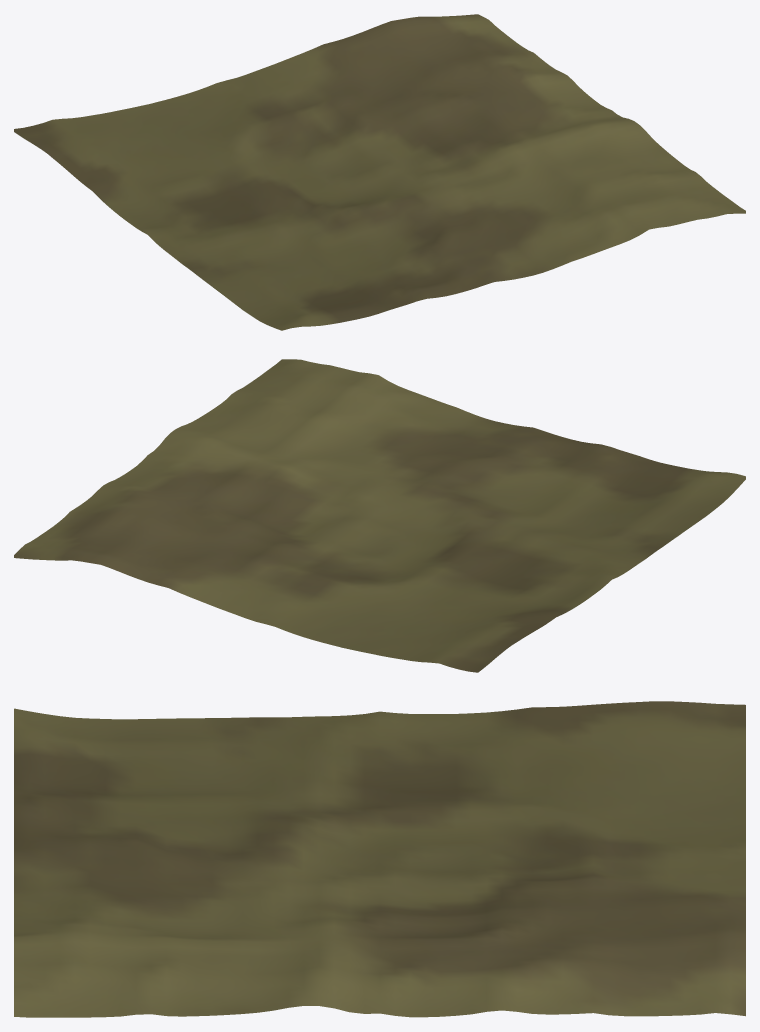
Rendered from land_m_01_06.glb.
The picture shows the model from 3 angles, top to bottom: view 1: azimuth 30°, elevation 25°; view 2: azimuth 150°, elevation 25°; view 3: azimuth 270°, elevation 25°; orthographic projection. The views are drawn at different scales.
Visible parts, largest first — view 1: land_m_01_06; view 2: land_m_01_06; view 3: land_m_01_06.
Boxes of the visible parts, left/top/right/bottom form: land_m_01_06: left=14, top=14, right=745, bottom=330; land_m_01_06: left=14, top=359, right=745, bottom=672; land_m_01_06: left=14, top=701, right=745, bottom=1017.
Size of the model in its own units: 960 by 63.99 by 960.
